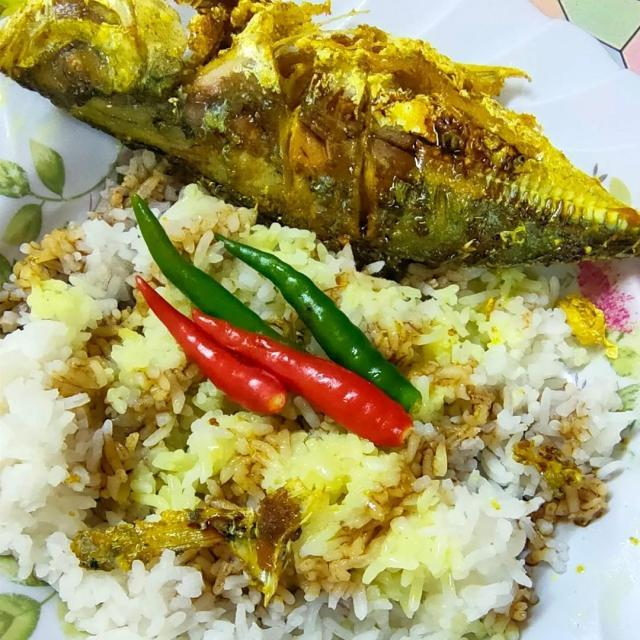Plate: (369, 0, 639, 183)
Rice: (0, 141, 639, 639)
Vegetables: (116, 178, 422, 447)
